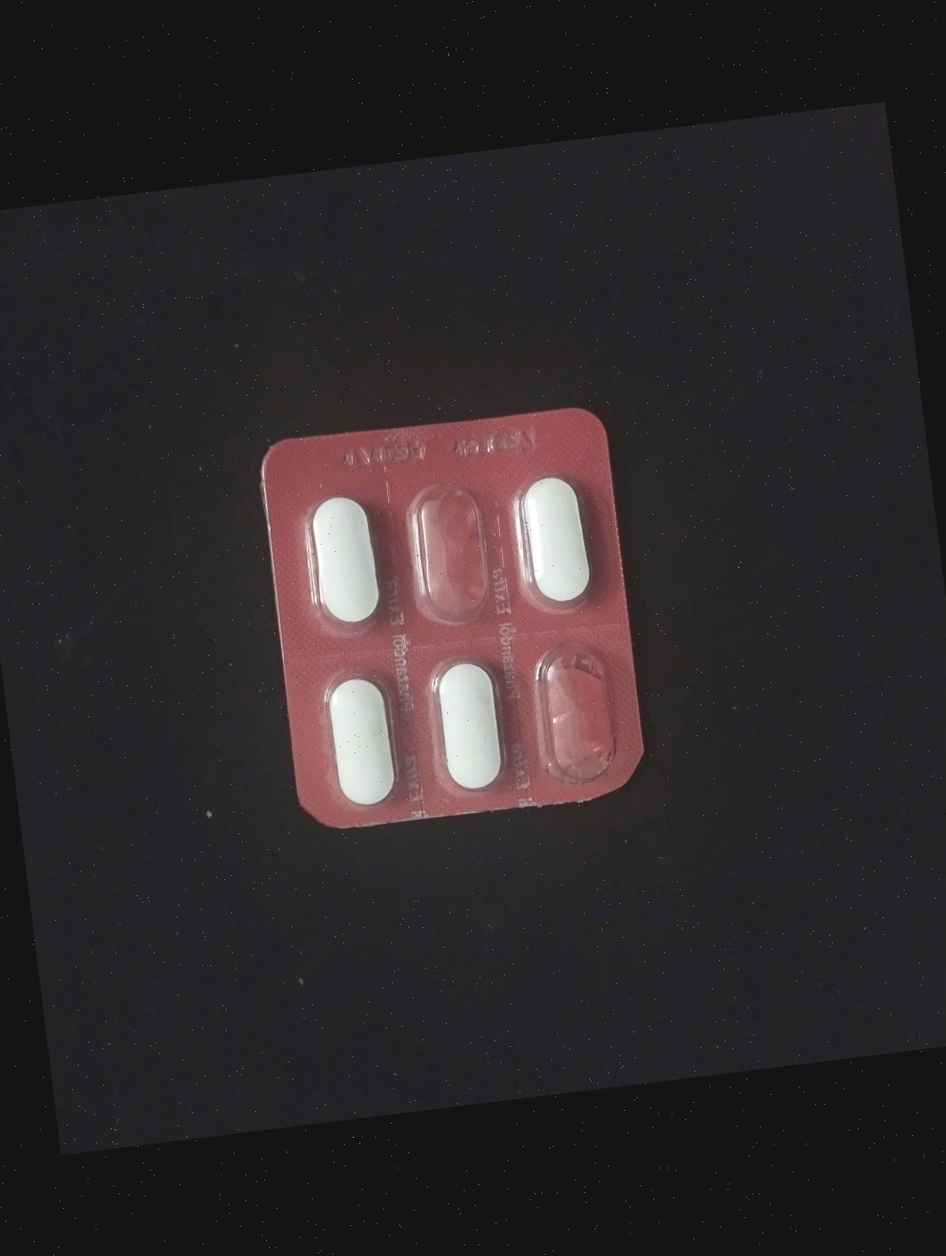Empty: (526, 638, 632, 792), (402, 477, 502, 631)
Full: (509, 466, 605, 620), (420, 654, 521, 795), (298, 480, 391, 632), (324, 668, 407, 811)
